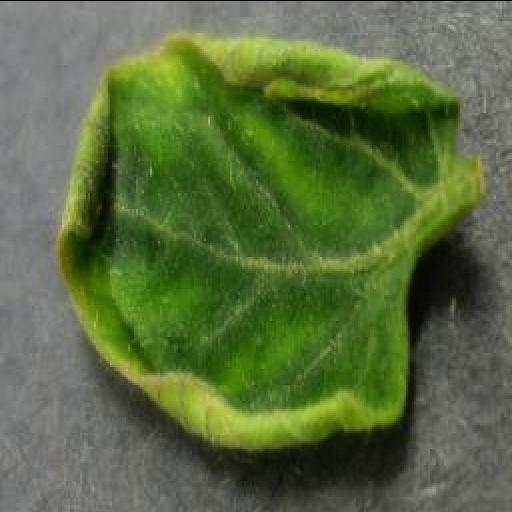disease_tomato: (54, 28, 458, 454)
